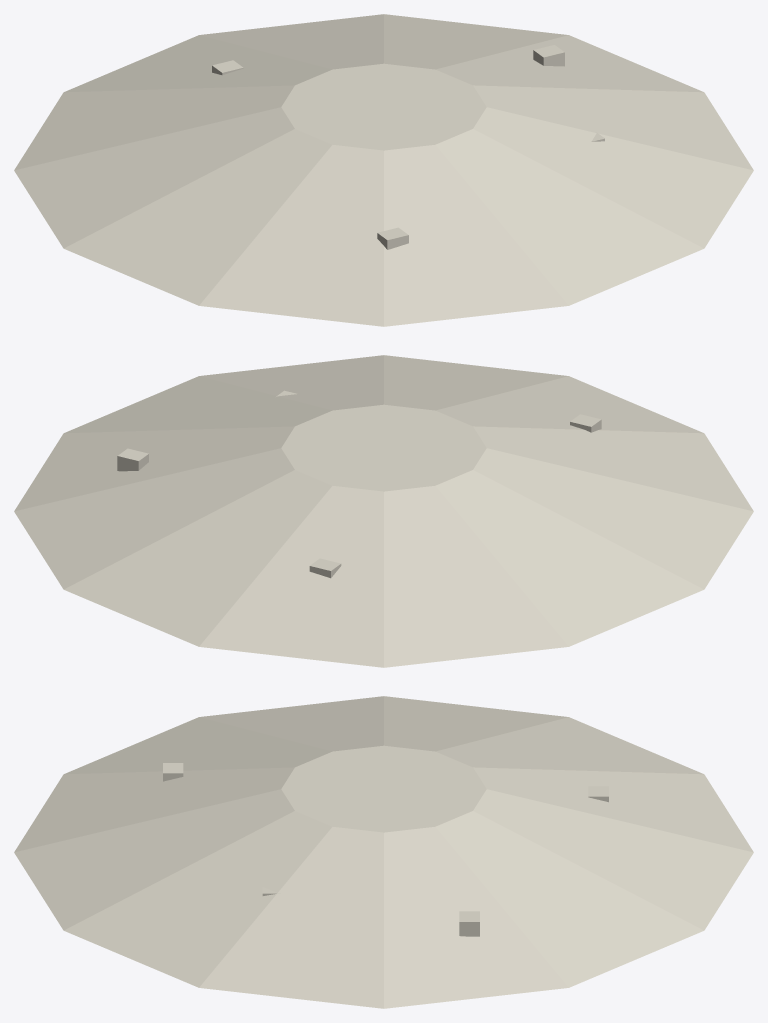
Rendered from blender_salt_1_deployed.glb.
The picture shows the model from 3 angles, top to bottom: view 1: azimuth 30°, elevation 25°; view 2: azimuth 150°, elevation 25°; view 3: azimuth 270°, elevation 25°; orthographic projection.
Parts seen in each view (by area): view 1: blender_salt_1_deployed; view 2: blender_salt_1_deployed; view 3: blender_salt_1_deployed.
Boxes of the visible parts, x1,y1,x2,y2 form: blender_salt_1_deployed: (14,14,753,326); blender_salt_1_deployed: (14,355,753,667); blender_salt_1_deployed: (14,696,753,1008).
Size of the model in its own units: 0.18 by 0.017 by 0.18.
1 material, 1 textured.
